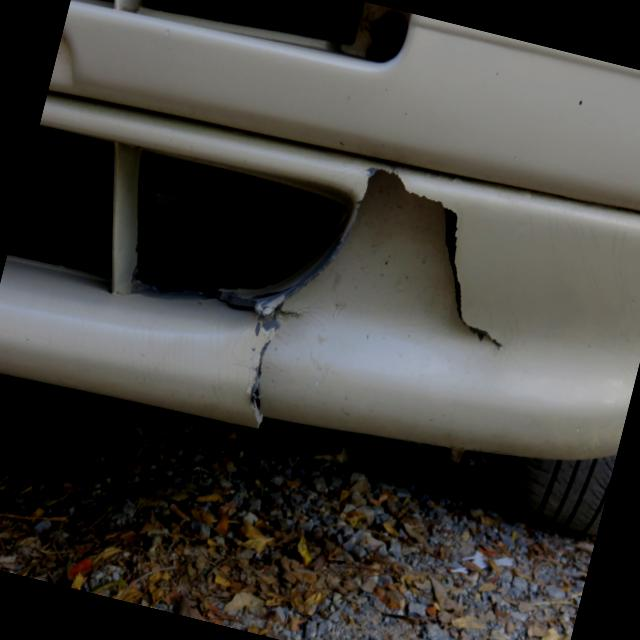Dechirure: (332, 149, 544, 347), (209, 249, 330, 462)
